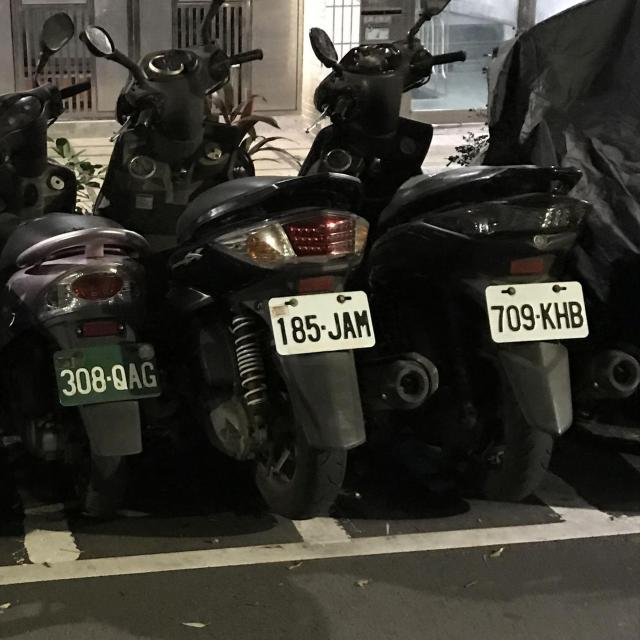W: (264, 286, 378, 358), (50, 337, 164, 408), (481, 277, 592, 346)
